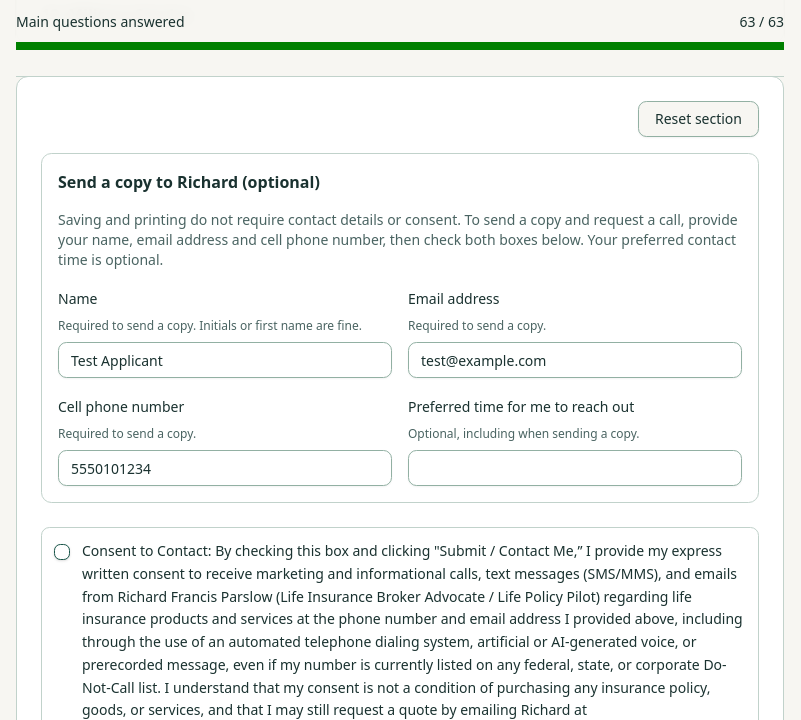
Test: draft saving with an incomplete Email address › keeps saving every other answer and holds back only the incomplete one
(page scrolled)
Replace the text in the field labelled "Email address" with "rich@" at (575, 360), box [408, 342, 742, 378]
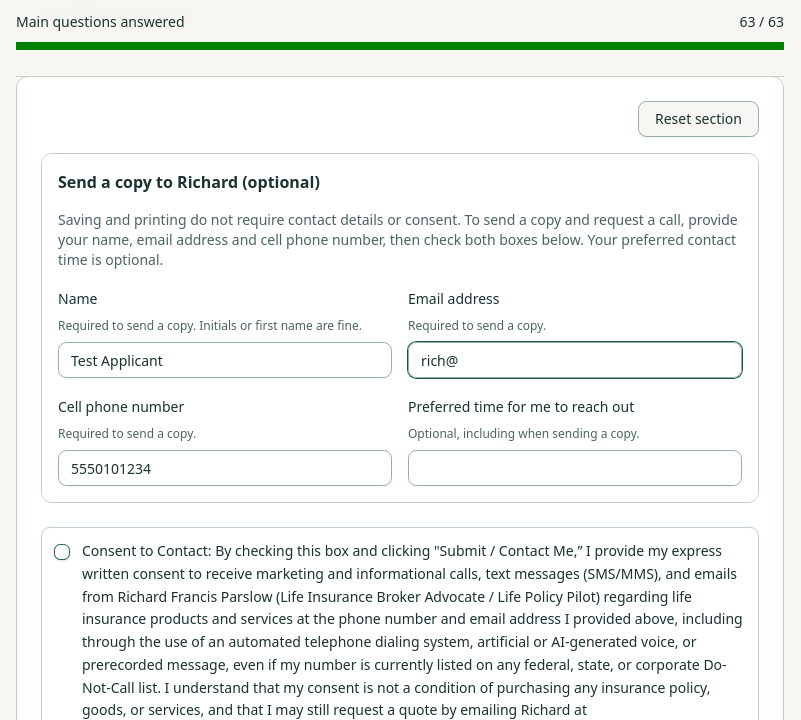
Type " Smith" into the field labelled "Name" at (225, 360), box [58, 342, 392, 378]
(page scrolled)
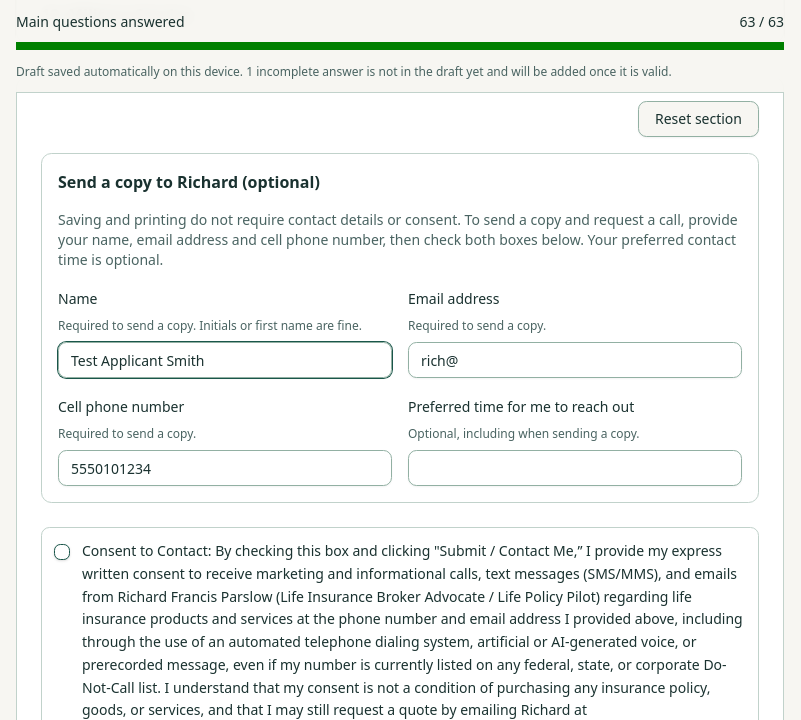
Now the text "1 incomplete answer is not in the draft yet" is shown, box [16, 63, 672, 80]
